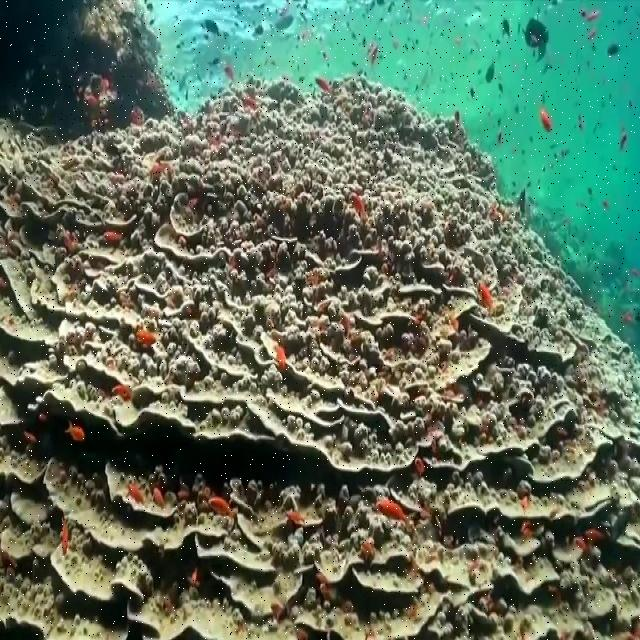fish: (375, 500, 418, 531), (525, 17, 550, 64), (209, 497, 238, 521), (478, 280, 498, 311), (124, 479, 144, 505), (351, 195, 368, 224), (275, 341, 289, 373), (65, 420, 85, 441), (538, 103, 552, 132), (152, 486, 168, 509), (60, 517, 69, 555), (204, 19, 221, 38), (584, 529, 608, 542), (286, 511, 308, 525), (113, 384, 131, 401), (366, 42, 379, 64), (485, 60, 495, 84), (136, 330, 155, 342), (105, 231, 123, 243), (608, 41, 622, 56), (502, 19, 510, 39), (317, 77, 328, 91), (223, 64, 234, 78)
reefs: (0, 0, 639, 639)
